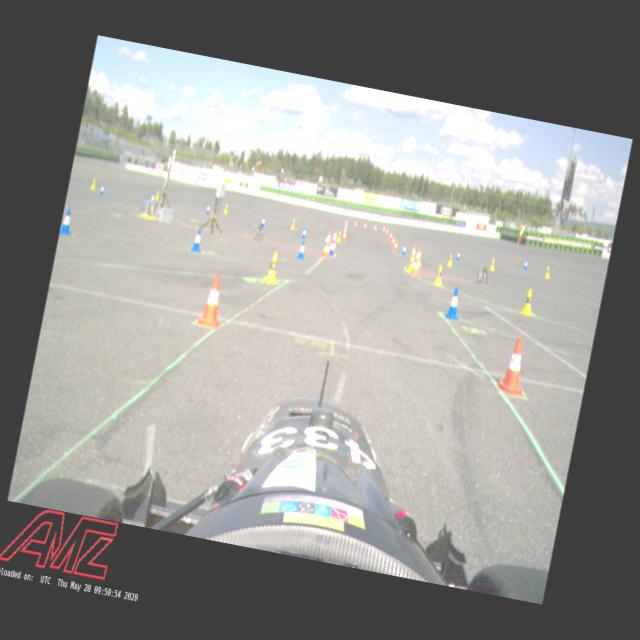blue_cone: (444, 286, 463, 320), (59, 206, 75, 237), (190, 226, 206, 252), (295, 239, 308, 262), (327, 238, 338, 258), (522, 258, 530, 272), (260, 216, 268, 230), (300, 226, 308, 240), (454, 250, 462, 264), (98, 182, 105, 196), (205, 202, 212, 216), (402, 244, 408, 255)
large_orange_cone: (410, 246, 425, 276), (320, 230, 334, 260), (406, 243, 419, 270), (328, 230, 339, 254)
orange_cone: (497, 336, 533, 398), (196, 272, 228, 327), (393, 240, 399, 251), (362, 222, 368, 232), (391, 236, 396, 246), (353, 220, 358, 228), (373, 225, 378, 232), (382, 226, 386, 234)
yellow_cone: (264, 252, 282, 284), (521, 288, 538, 314), (434, 265, 446, 286), (406, 253, 416, 272), (544, 264, 553, 280), (416, 252, 424, 268), (488, 258, 497, 272), (288, 218, 297, 231), (89, 176, 97, 190), (222, 203, 230, 216), (335, 231, 342, 243), (448, 254, 454, 267), (154, 190, 160, 202)
